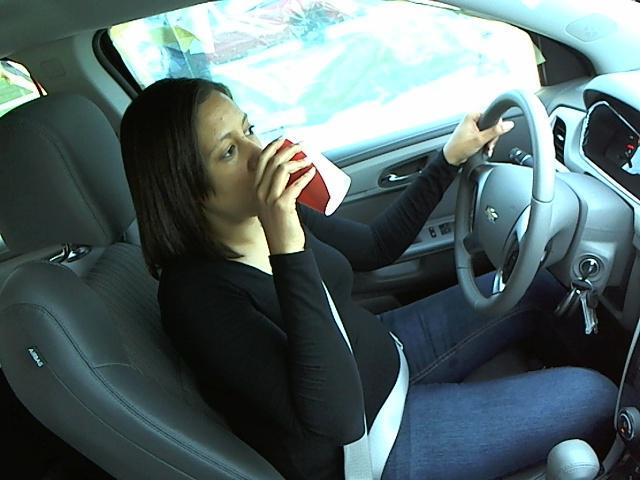Drinking: (179, 88, 350, 217)
